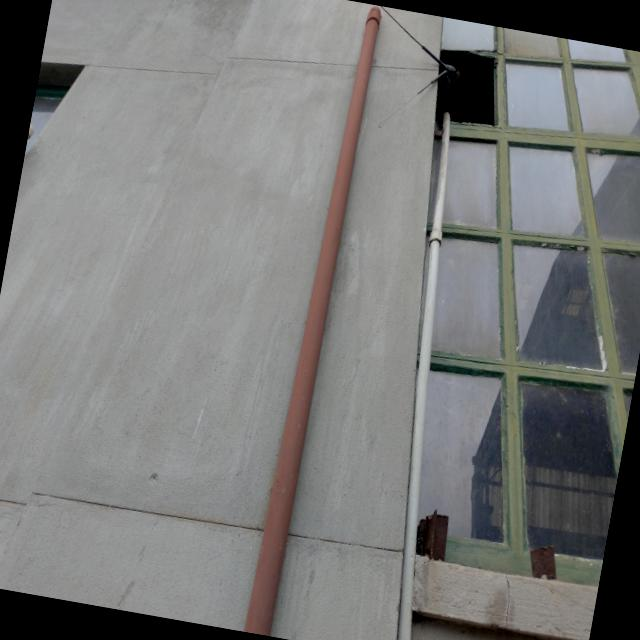gas: (242, 2, 382, 636)
